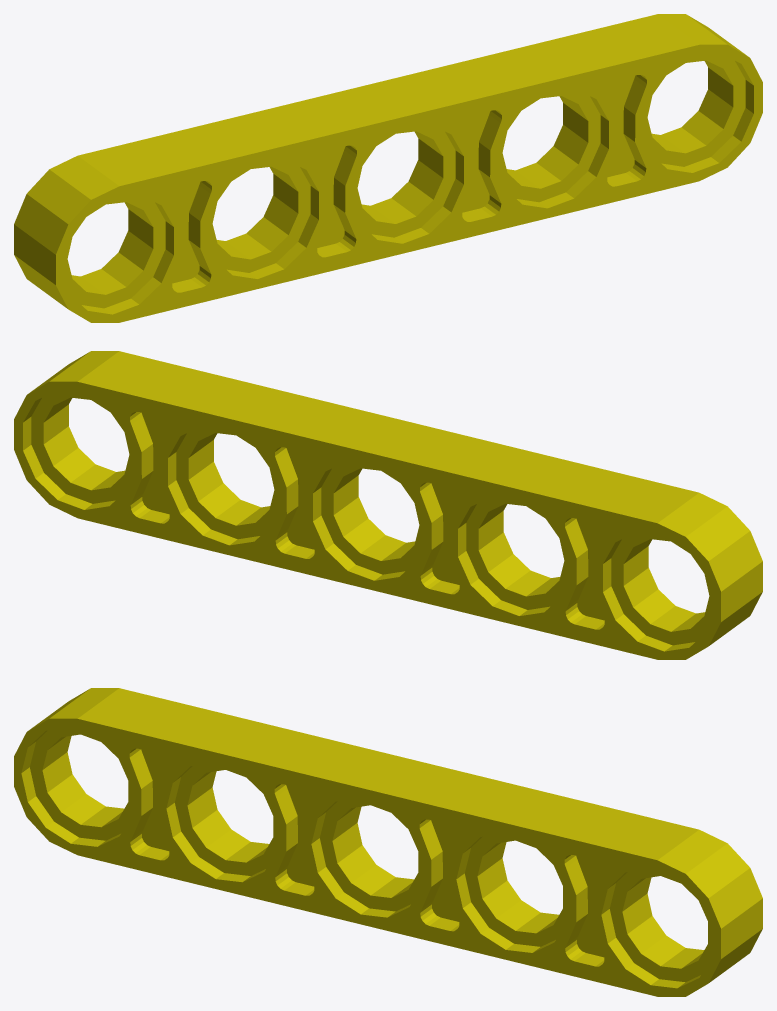
The model's file is Ye_4503425_AVV.fbx.
The picture shows the model from 3 angles, top to bottom: view 1: azimuth 30°, elevation 25°; view 2: azimuth 150°, elevation 25°; view 3: azimuth 330°, elevation 25°; orthographic projection.
Parts seen in each view (by area): view 1: Ye_4503425_AVV; view 2: Ye_4503425_AVV; view 3: Ye_4503425_AVV.
Boxes of the visible parts, box(x1,y1,x2,y2) form: Ye_4503425_AVV: box(14, 14, 762, 322); Ye_4503425_AVV: box(14, 351, 762, 659); Ye_4503425_AVV: box(14, 688, 762, 996).
Size of the model in its own units: 3.9 by 0.72 by 0.4.
